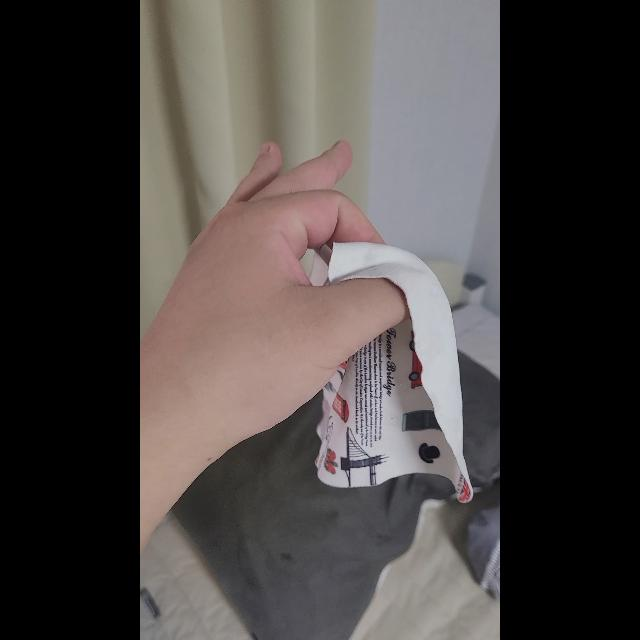Glasses cleaning cloth: (308, 241, 474, 503)
